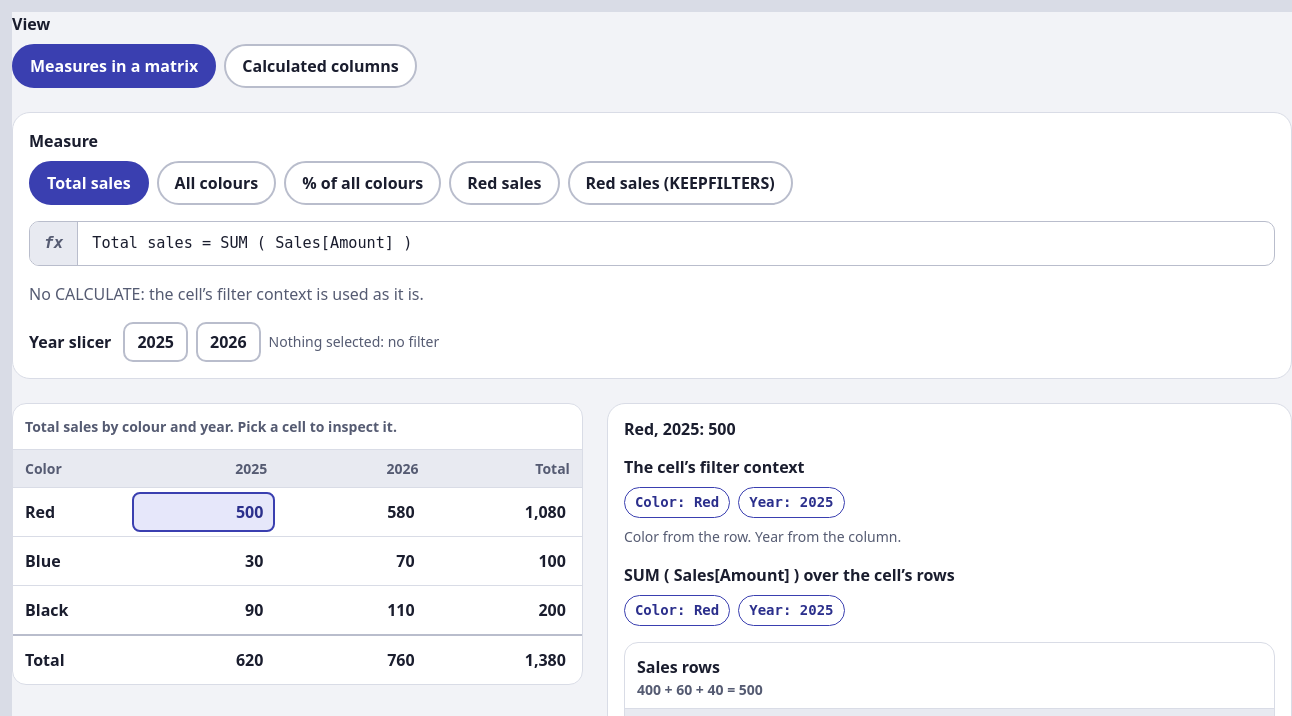
Test: Filter context simulator › the slicer removes a year column and filters every cell
Click the button "2025" at (156, 342), box [123,322,188,362]
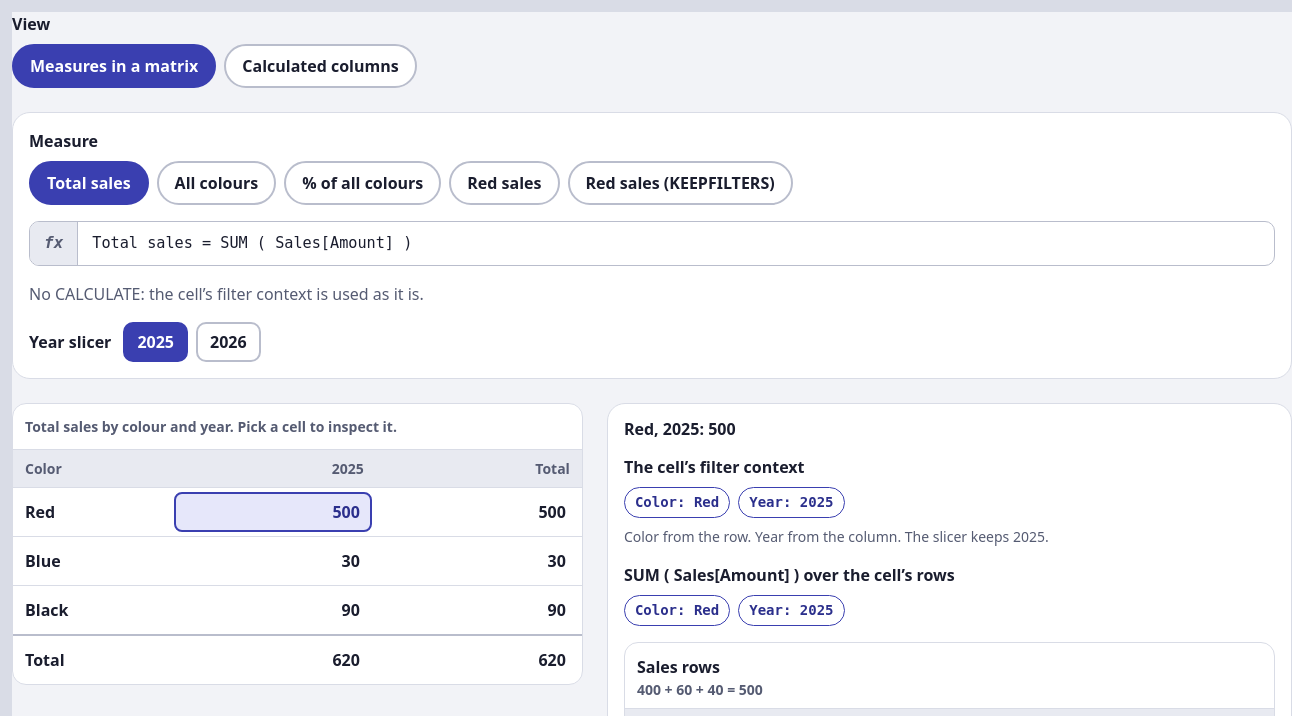
Expected: the button named "Total, Total: 620" is shown, [380,640,578,680]
